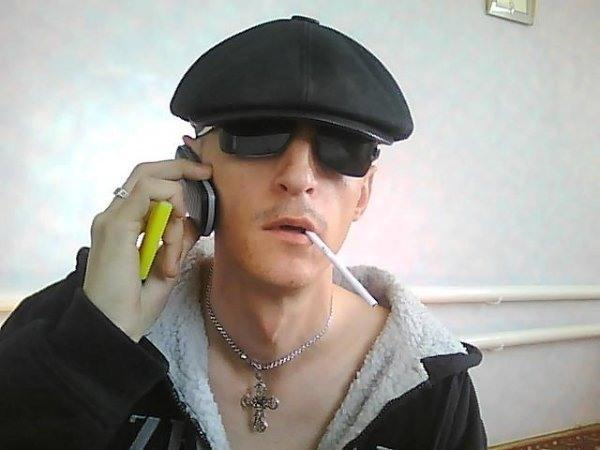cigarette: (306, 231, 377, 306)
